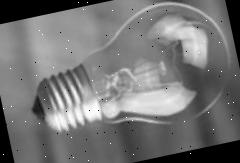lightbulb: (15, 0, 240, 151)
